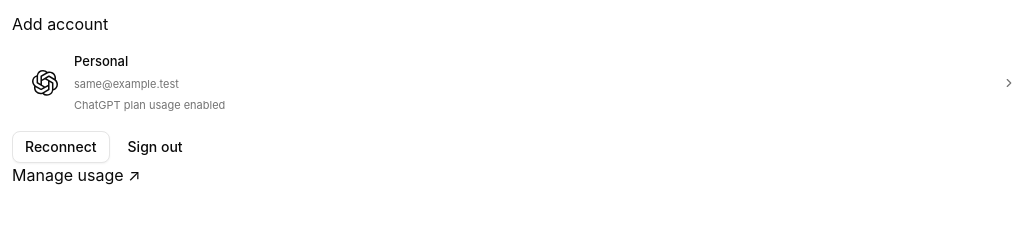
Test: discloses unconfirmed remote revocation after local signout with a usage-settings link
What coordinates should you click on to do the following:
click the button with aria-label "Sign out Personal"
I would click on:
 (155, 147)
Its box is [116,131,195,163].
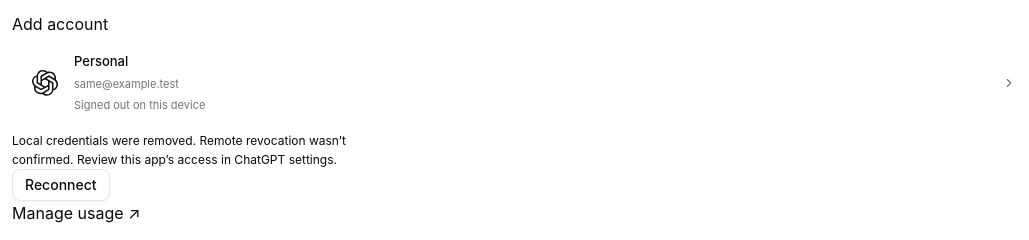
Expected: the text "Remote revocation wasn’t confirmed" is shown, [12,133,346,167]
